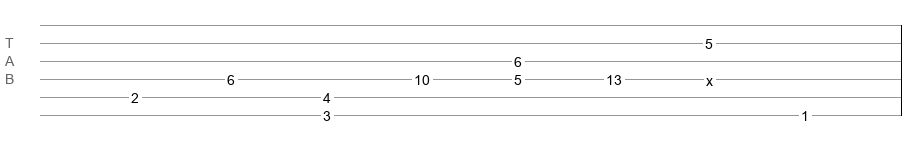1: (801, 108, 809, 118)
10: (414, 72, 430, 82)
13: (606, 72, 622, 82)
2: (131, 90, 139, 100)
3: (323, 108, 331, 118)
4: (323, 90, 331, 100)
5: (514, 72, 522, 82), (705, 36, 713, 46)
6: (227, 72, 235, 82), (514, 54, 522, 64)
x: (706, 73, 713, 81)
